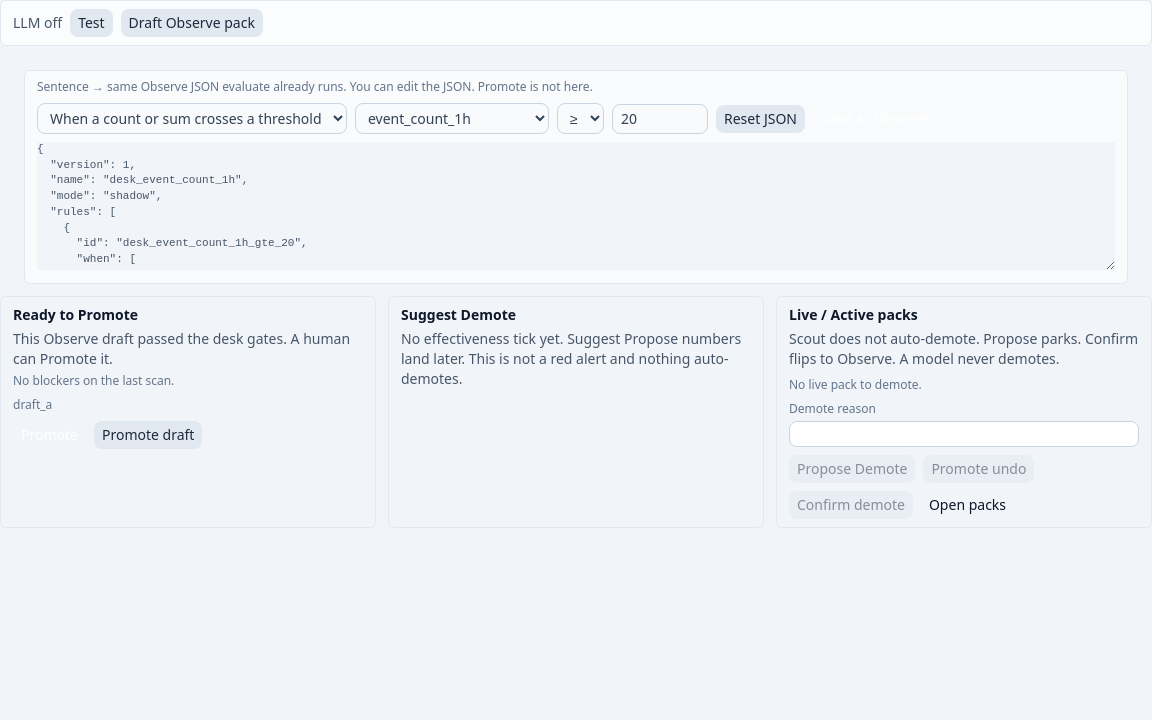
Test case: ObserveEasePanel › Promote draft requires confirm; Cancel leaves Observe and does not Promote
Click the button "Promote draft": point(148, 435) [94,421,202,449]
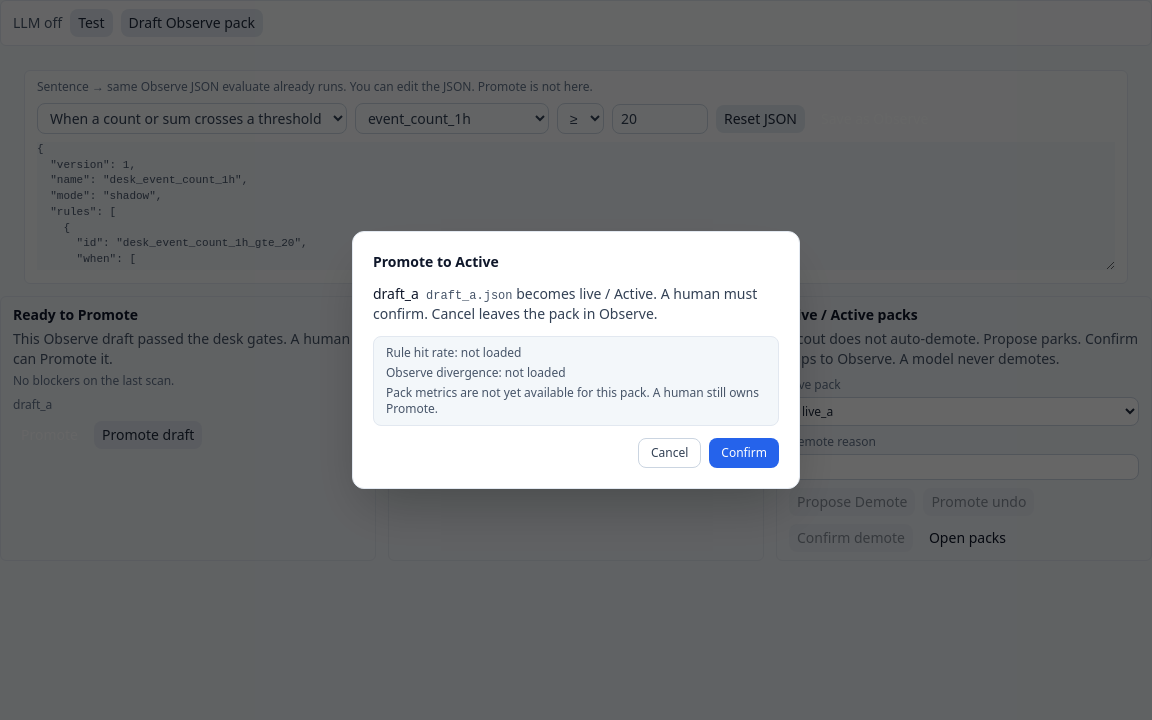
expect the dialog "Promote to Active" shows "draft_a": met, box [373,284,419,303]
expect the dialog "Promote to Active" shows "becomes live": met, box [373,284,757,323]
expect the dialog "Promote to Active" shows "Cancel leaves the pack in Observe": met, box [373,284,757,323]
Click the button "Cancel": point(670, 453) [638,438,701,468]
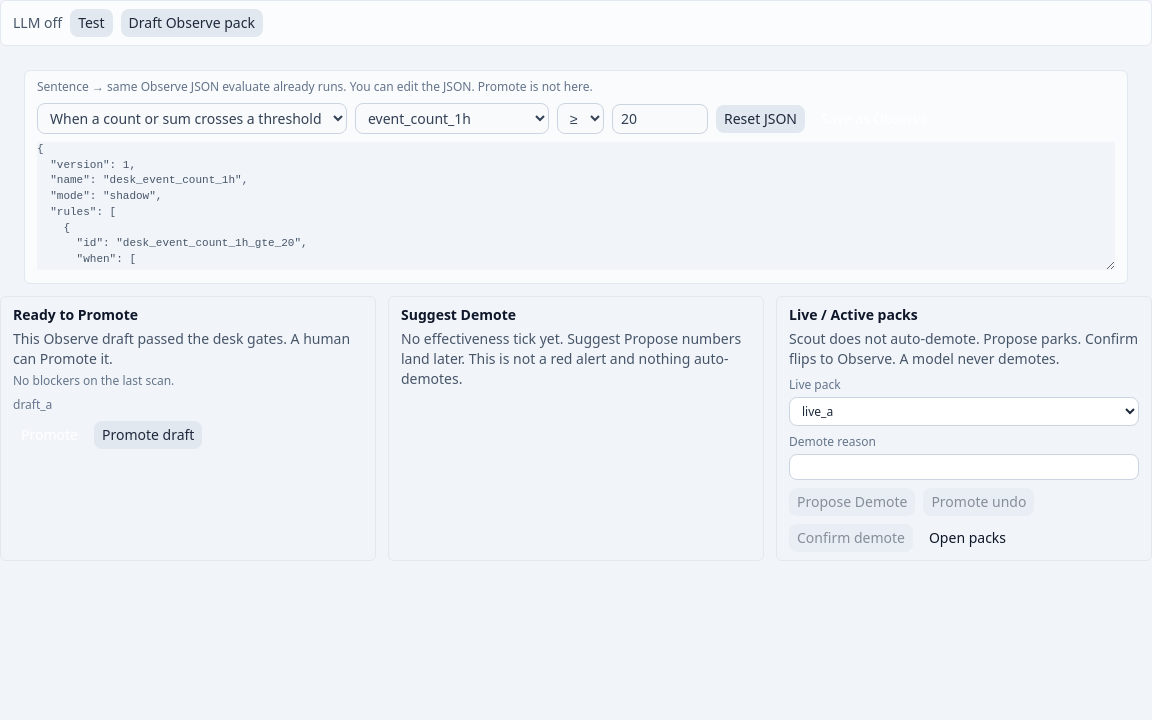
expect the button "Promote draft" is shown: met, box [94,421,202,449]
expect the dialog is gone: met
